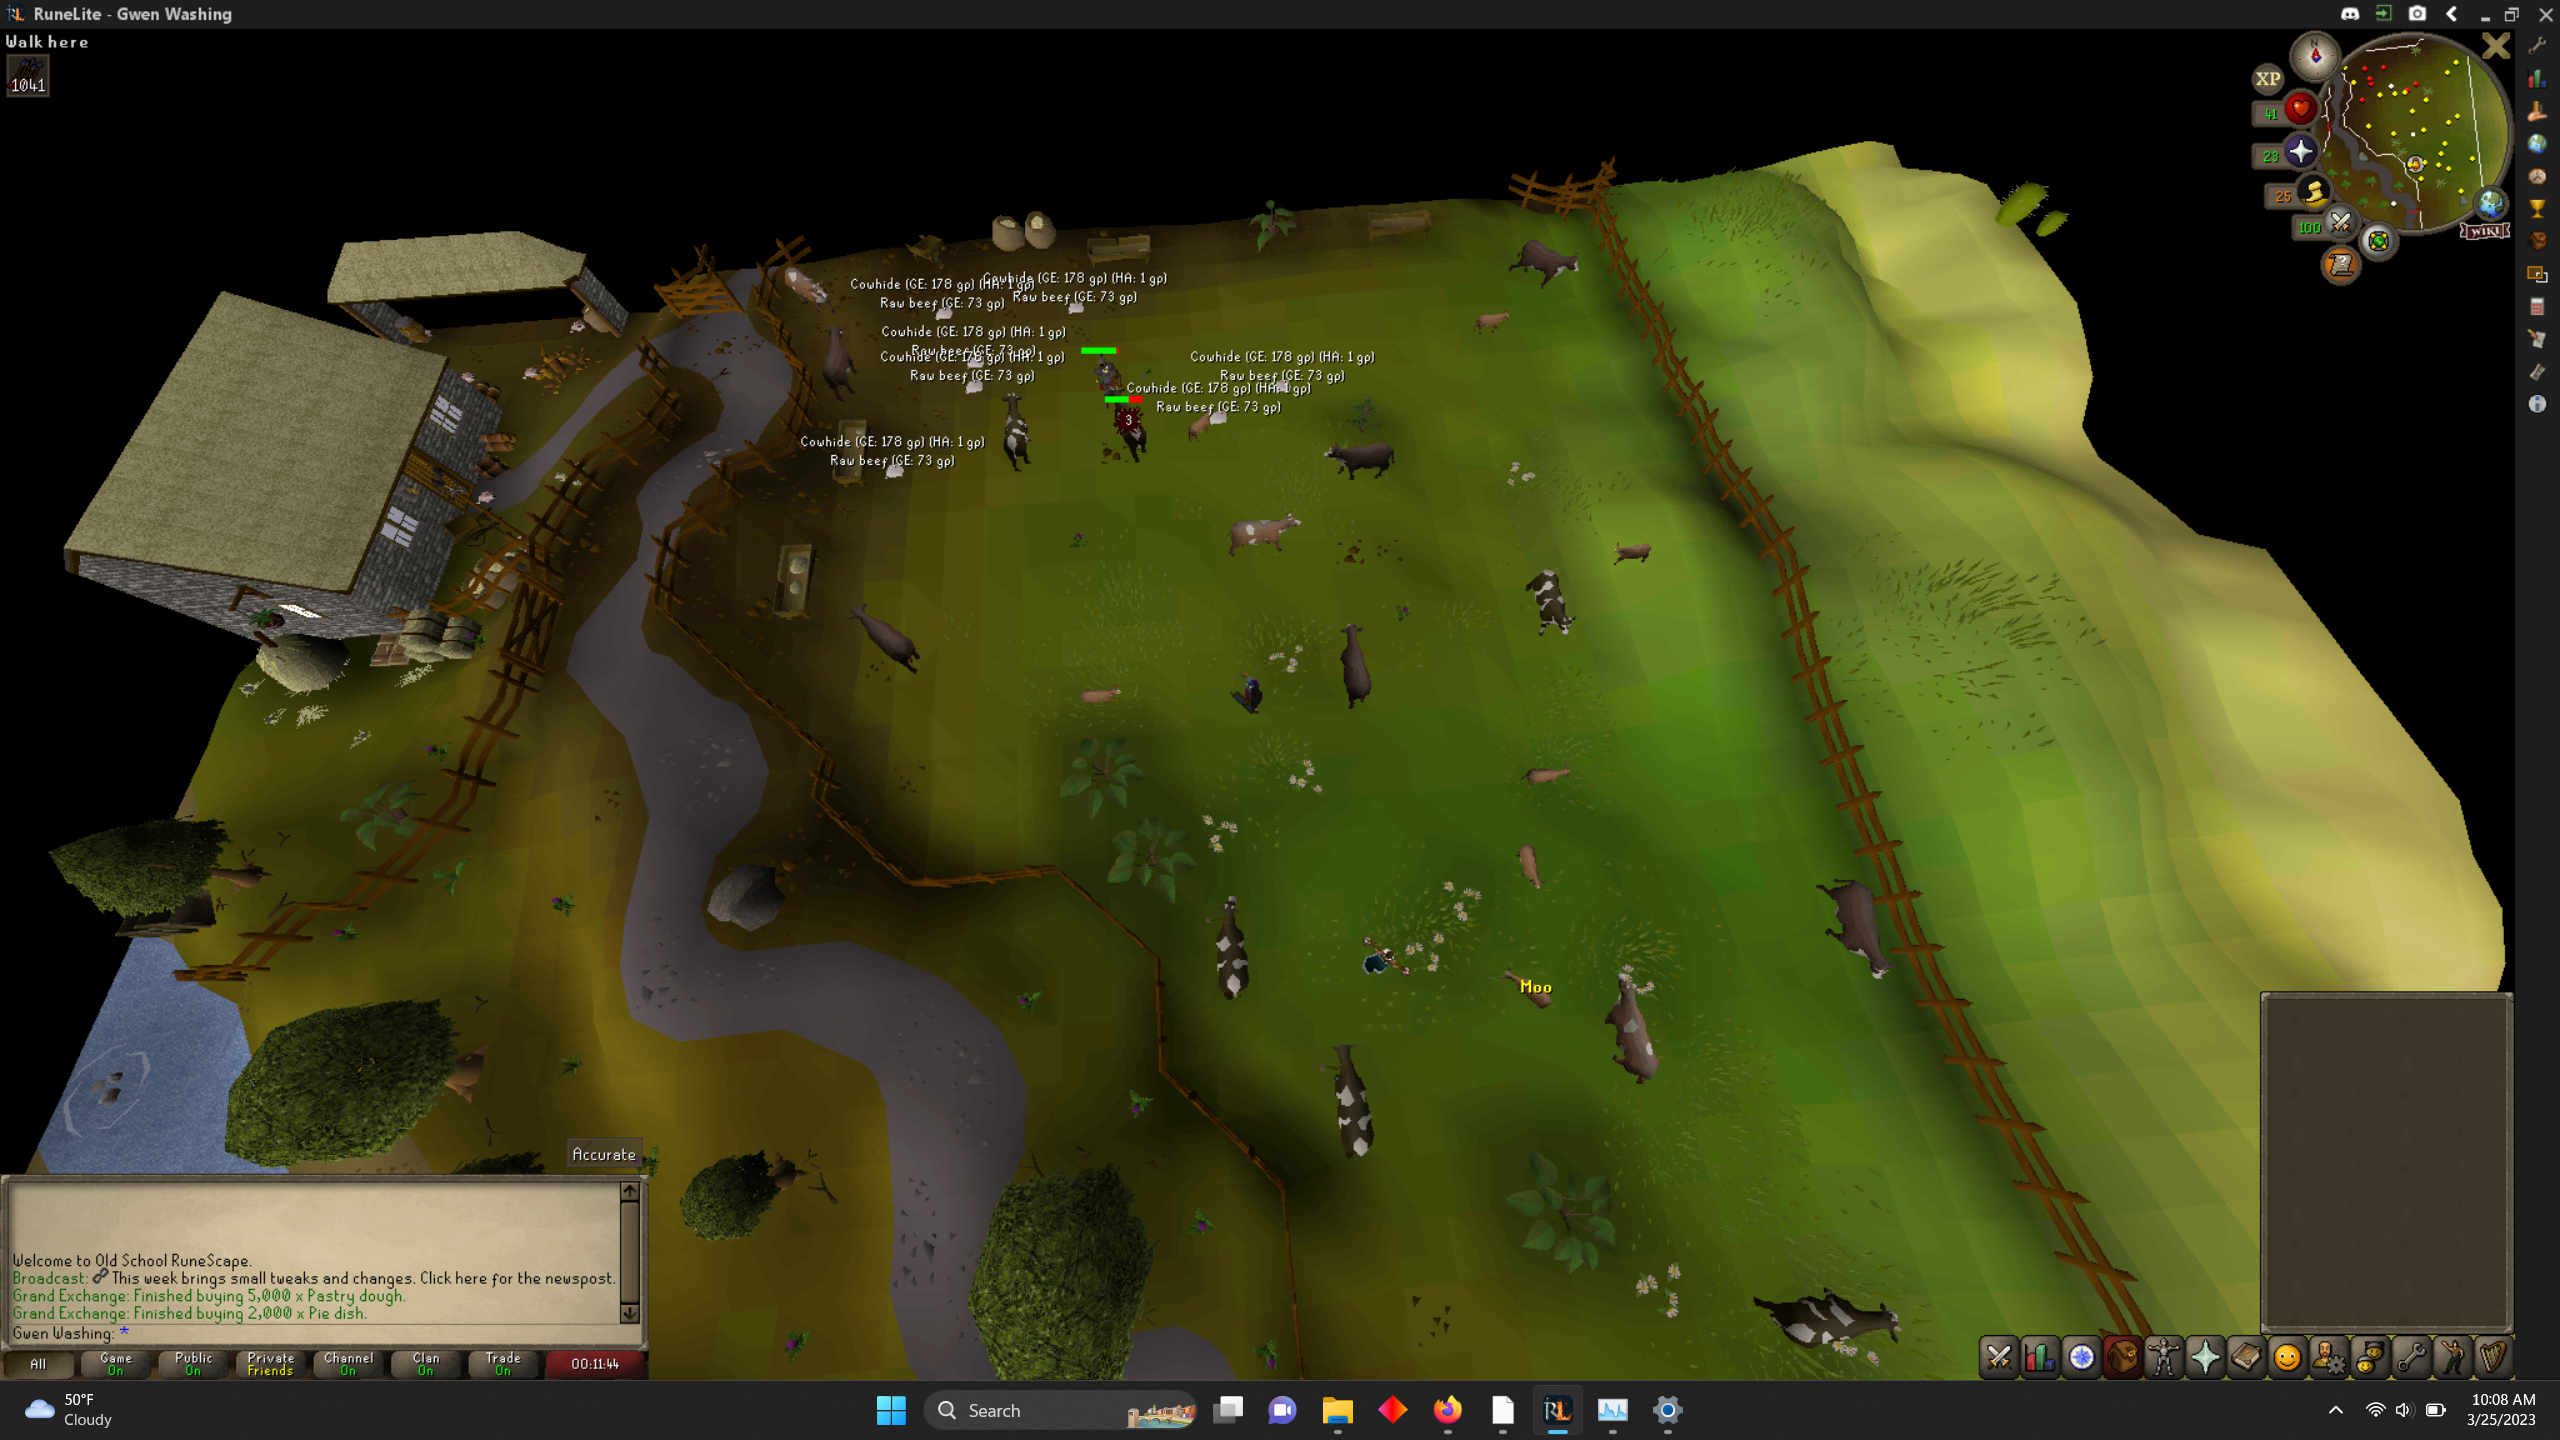cow: (1744, 1287, 1906, 1361), (1809, 870, 1894, 993), (1319, 1032, 1382, 1167), (1602, 969, 1665, 1094), (846, 591, 934, 680), (1208, 895, 1254, 1007), (1220, 505, 1308, 563), (1507, 234, 1582, 295), (1523, 566, 1581, 645), (1335, 610, 1375, 717), (1319, 440, 1398, 484), (995, 385, 1032, 478), (818, 322, 860, 397), (1502, 965, 1561, 1016), (779, 262, 832, 313), (1512, 833, 1551, 900), (1517, 754, 1574, 789), (1074, 679, 1131, 710), (1607, 536, 1660, 568), (1465, 304, 1514, 332), (1180, 404, 1213, 445)
